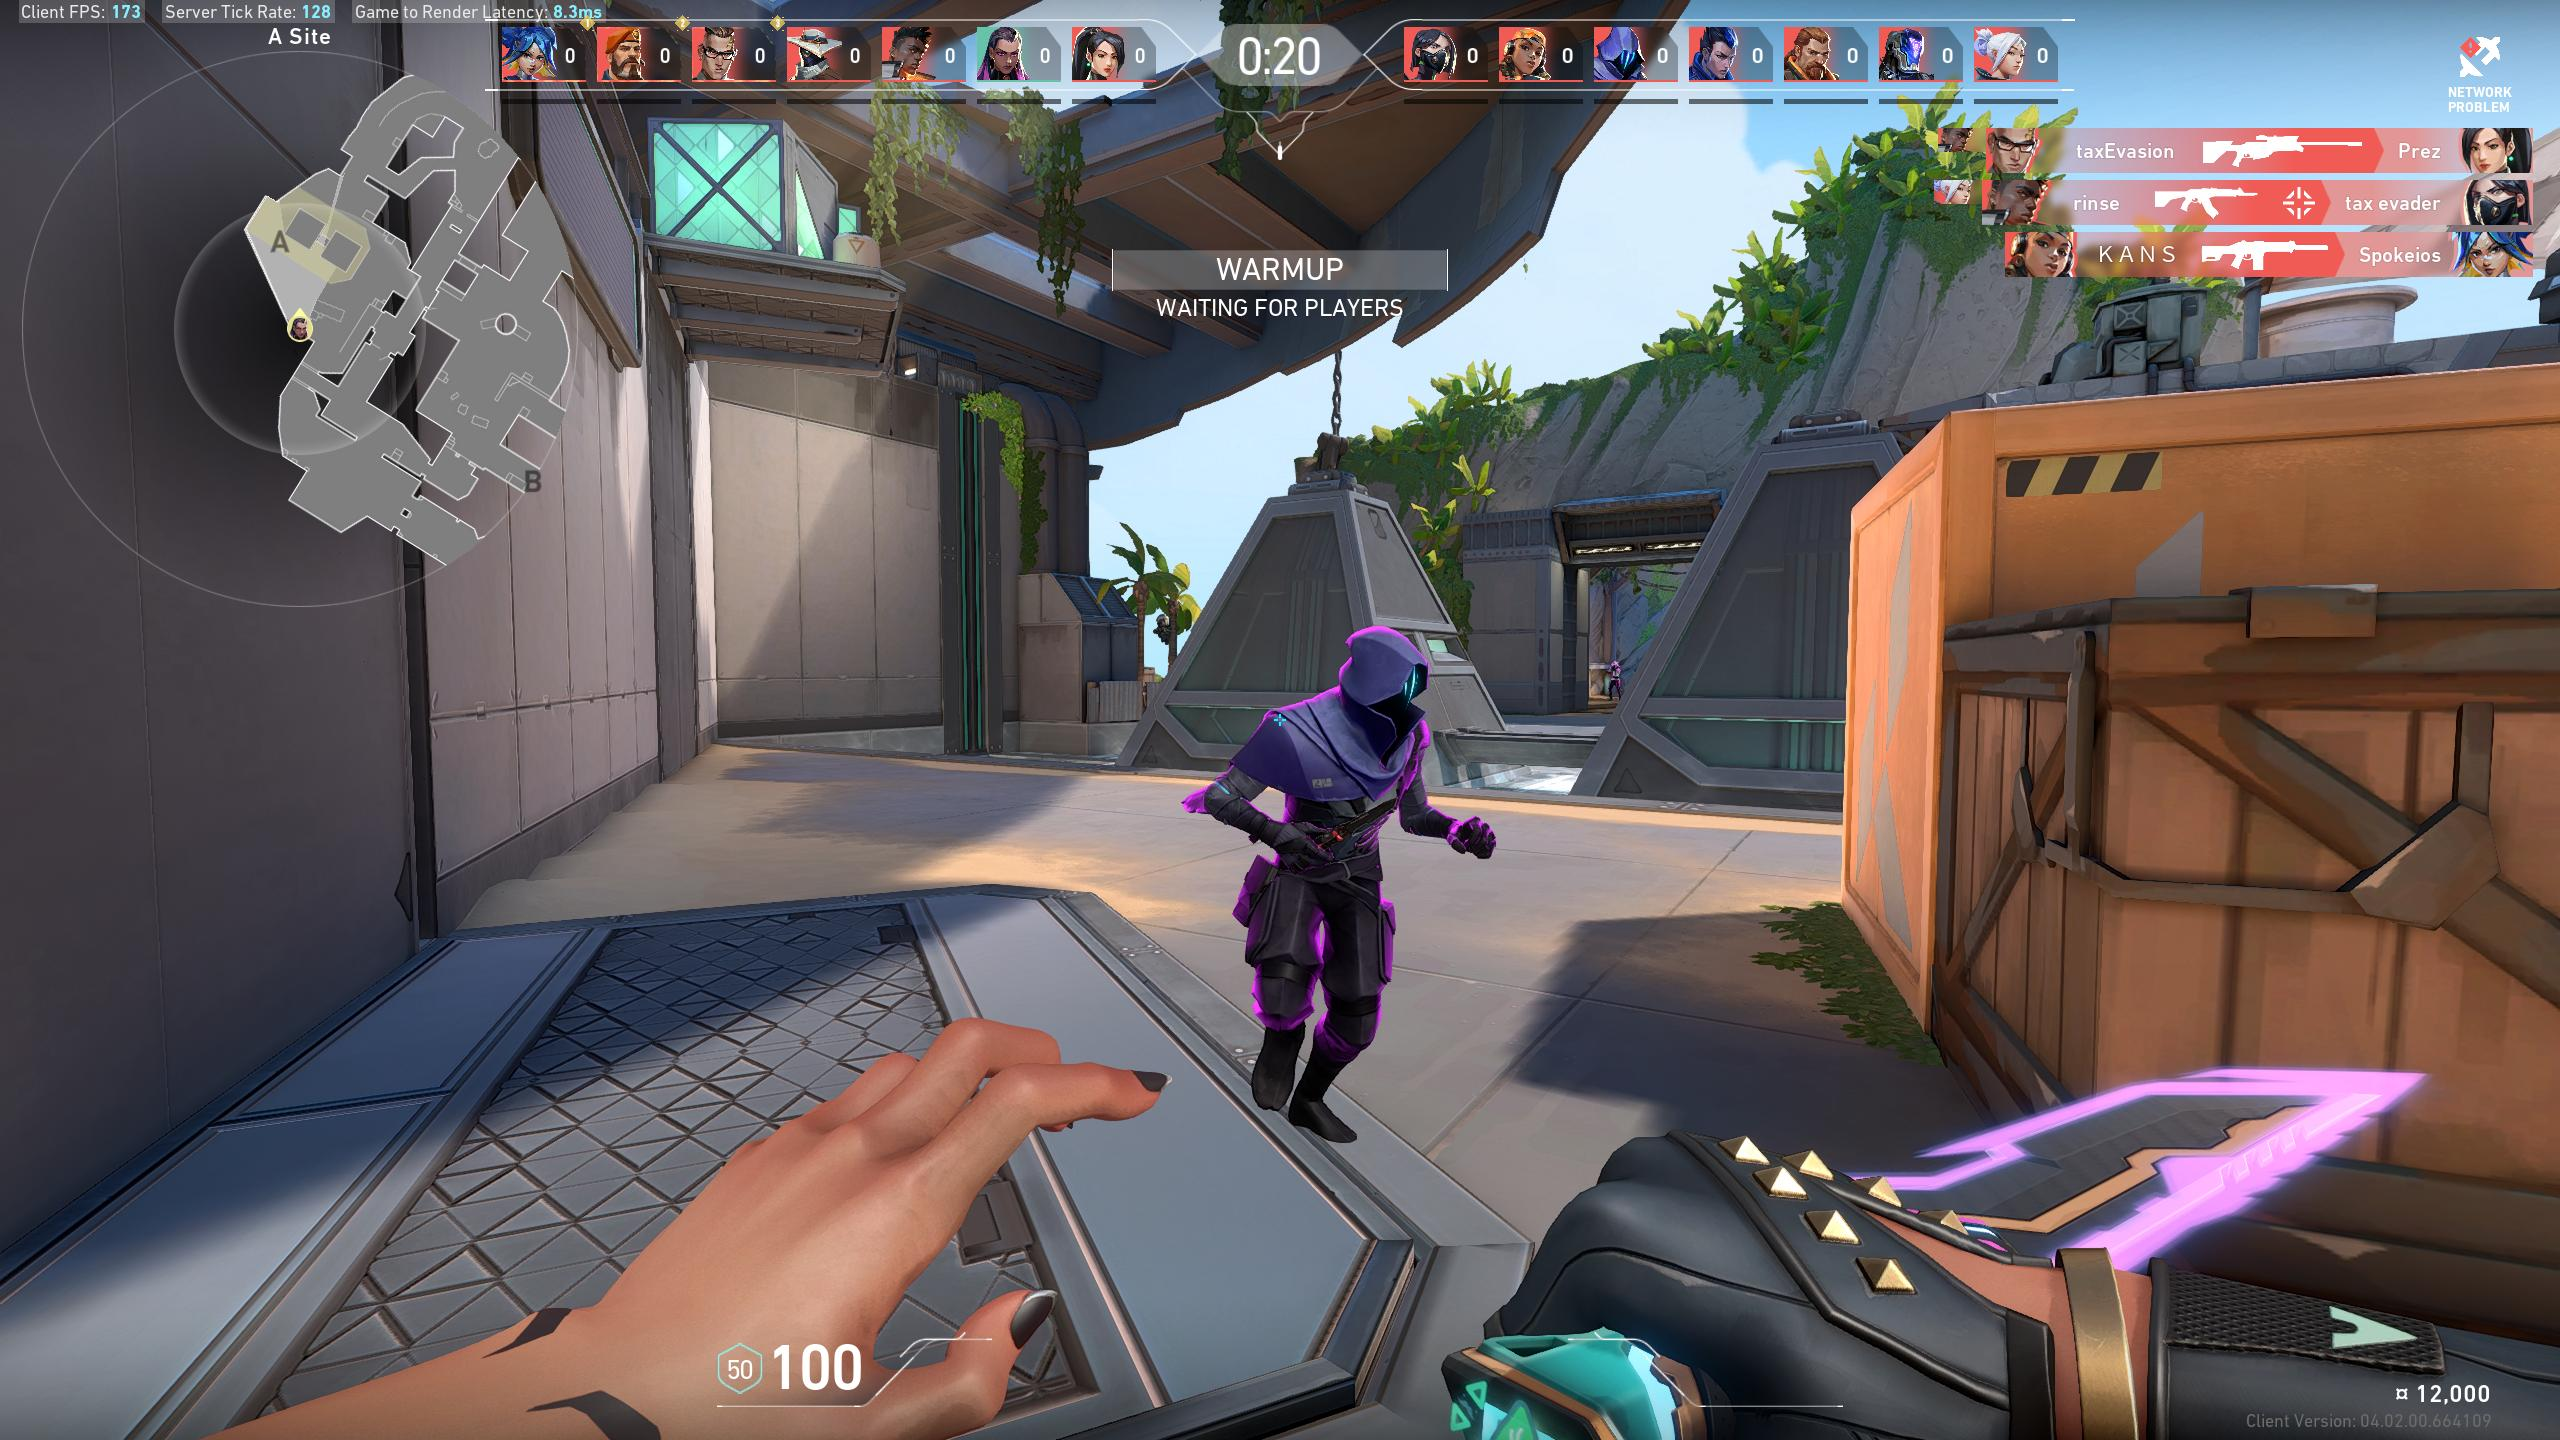enemyBody: (1312, 726, 1377, 877)
enemyHead: (1359, 651, 1417, 717)
